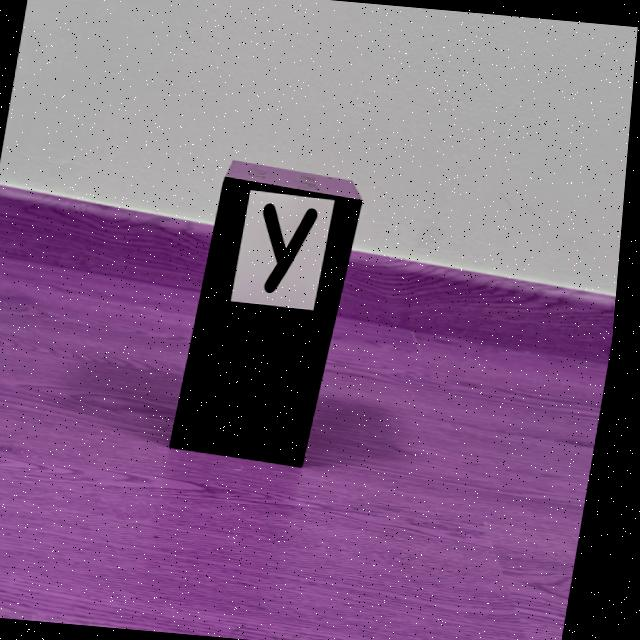Y: (266, 203, 321, 293)
